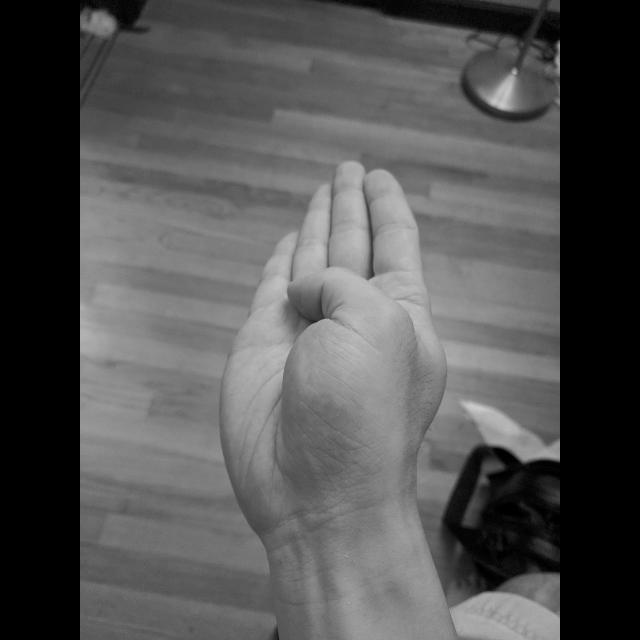B: (210, 149, 454, 566)
